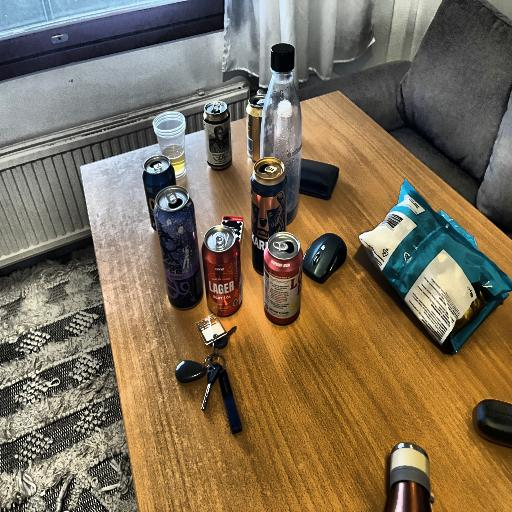A_LeCoq: (243, 95, 271, 167)
coop_larger: (206, 226, 240, 320)
karhu: (254, 156, 287, 273)
koff: (263, 230, 306, 328)
koti: (143, 152, 174, 226)
sandels: (200, 95, 234, 170)
